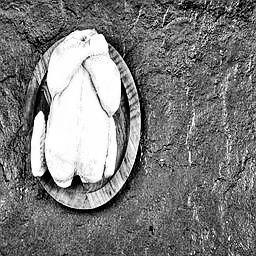bukan telur: (29, 30, 121, 189)
